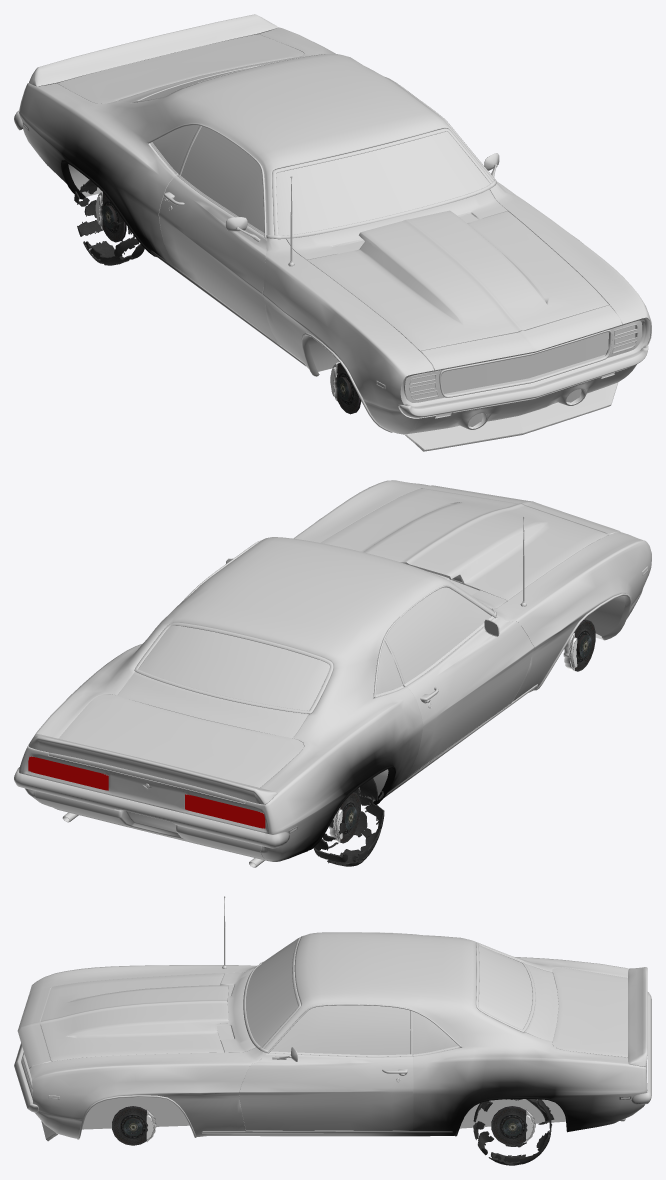
File: 07_Camaro.fbx
3 views of the same model, one above another, from view 1: azimuth 30°, elevation 25°; view 2: azimuth 150°, elevation 25°; view 3: azimuth 270°, elevation 25° (orthographic). The views are drawn at different scales.
Visible parts, largest first — view 1: Body_Duco, Kit_00_Duco, Body_Glass, Body_Chrome, Body_Matte, Rotor (×2), Body_Glossy; view 2: Body_Duco, Kit_00_Duco, Body_Glass, Body_Chrome, BrakeLights, Rotor (×2), Body_Matte; view 3: Body_Duco, Kit_00_Duco, Body_Glass, Body_Chrome, Body_Matte, Rotor (×2).
Part boxes in pixels (bbox=[...]): Body_Duco: bbox=[19, 14, 651, 434]; Kit_00_Duco: bbox=[307, 210, 608, 350]; Body_Glass: bbox=[141, 68, 490, 235]; Body_Chrome: bbox=[14, 55, 648, 432]; Body_Matte: bbox=[68, 164, 636, 451]; Rotor (×2): bbox=[99, 192, 361, 414]; Body_Glossy: bbox=[23, 124, 642, 426]; Body_Duco: bbox=[19, 480, 651, 861]; Kit_00_Duco: bbox=[321, 488, 608, 600]; Body_Glass: bbox=[138, 587, 491, 710]; Body_Chrome: bbox=[14, 516, 647, 850]; BrakeLights: bbox=[28, 756, 265, 829]; Rotor (×2): bbox=[334, 619, 595, 843]; Body_Matte: bbox=[309, 596, 625, 804]; Body_Duco: bbox=[17, 932, 647, 1138]; Kit_00_Duco: bbox=[40, 973, 228, 1061]; Body_Glass: bbox=[246, 939, 532, 1054]; Body_Chrome: bbox=[14, 896, 651, 1139]; Body_Matte: bbox=[25, 1014, 565, 1141]; Rotor (×2): bbox=[112, 1106, 532, 1145].
Size of what is drawn, in the model's own units: 2.05 by 1.45 by 4.85.
